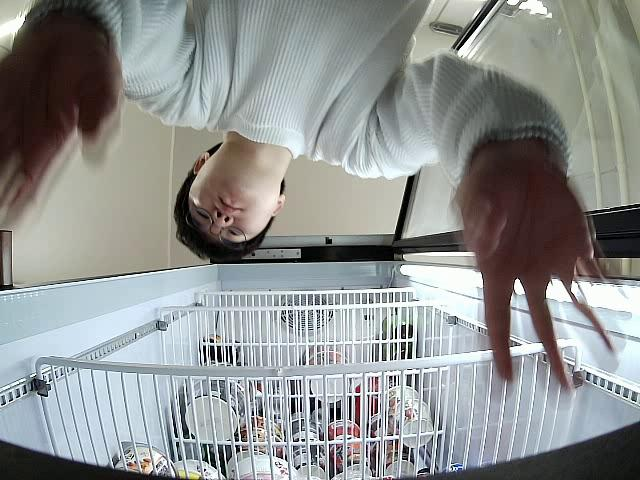00_hand: (447, 144, 630, 398), (0, 9, 122, 231)
